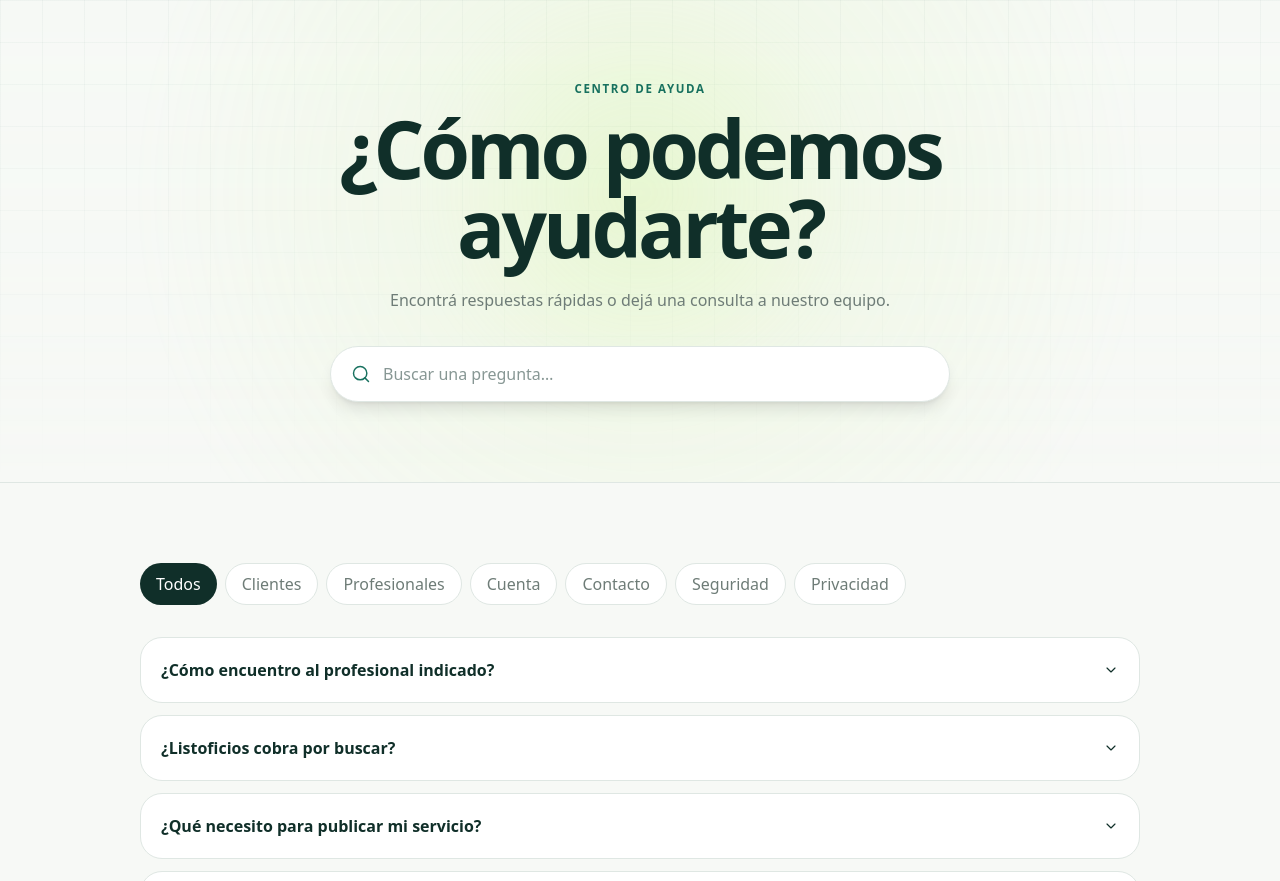
HelpCenter › filtra preguntas
The image size is (1280, 881).
In the field with placeholder "Buscar una pregunta…": (656, 374) [383,362,929,386], type "otro servicio"
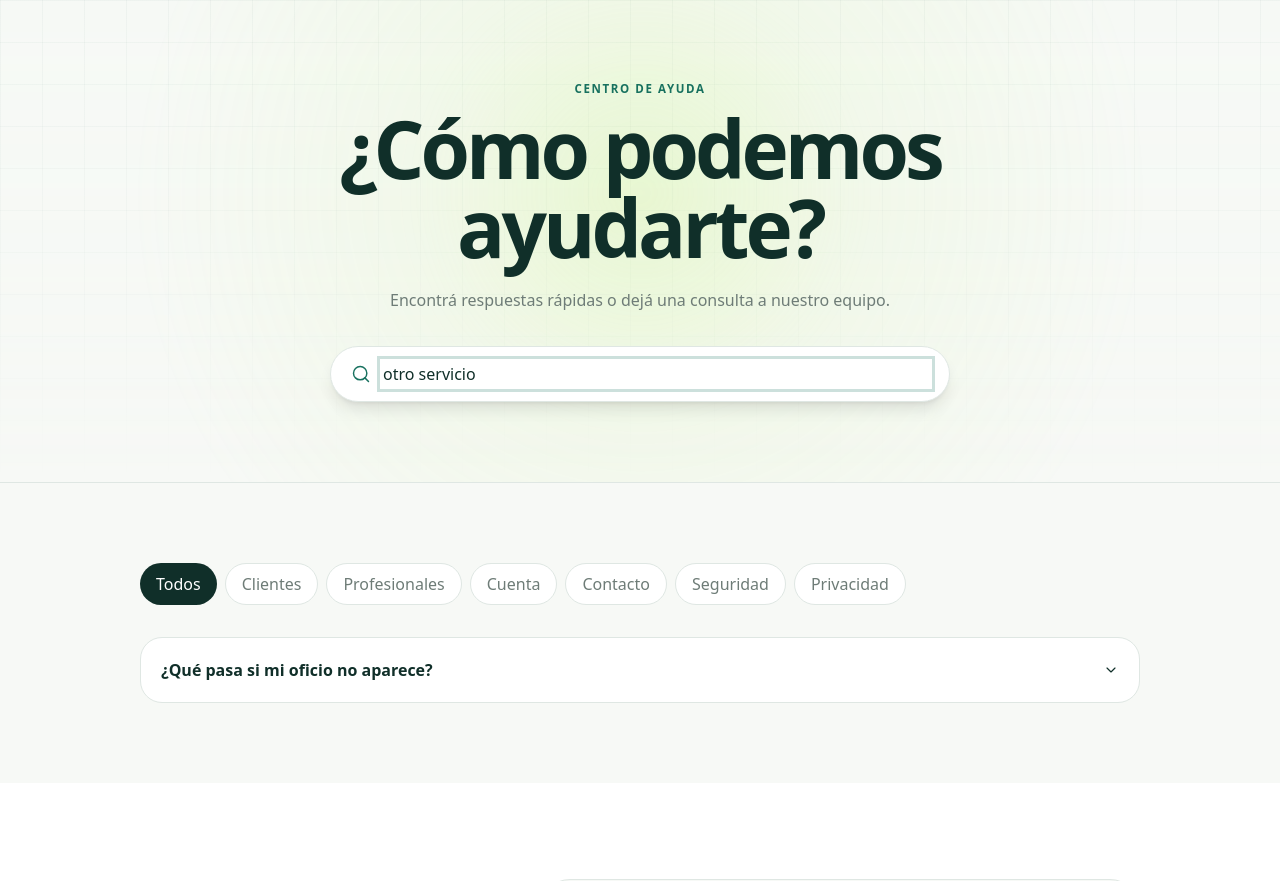
Check: the heading "¿Qué pasa si mi oficio no aparece?" is shown, box [161,658,1119,682]
Check: the heading "¿Listoficios cobra por buscar?" is gone
